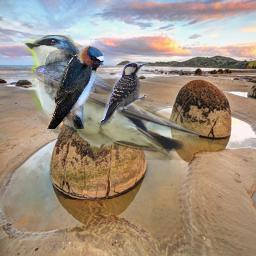Swallow: (24, 35, 200, 166), (43, 45, 104, 129)
Woodpecker: (96, 59, 151, 130)
